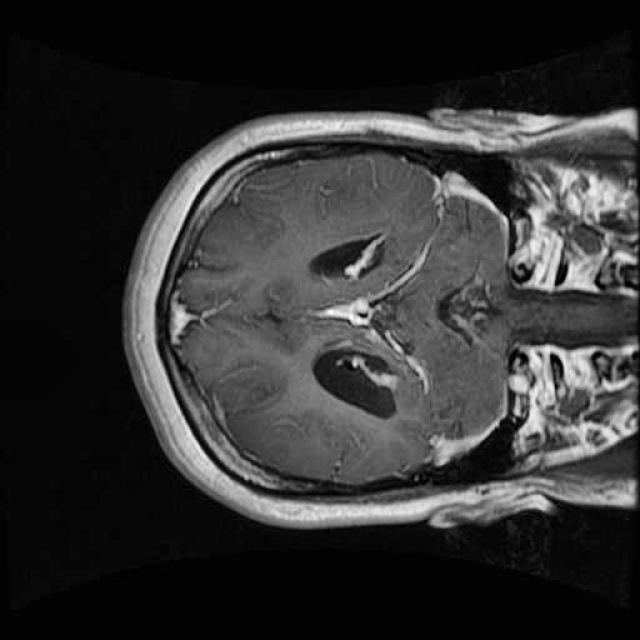Non-Tumor: (294, 325, 419, 430)
